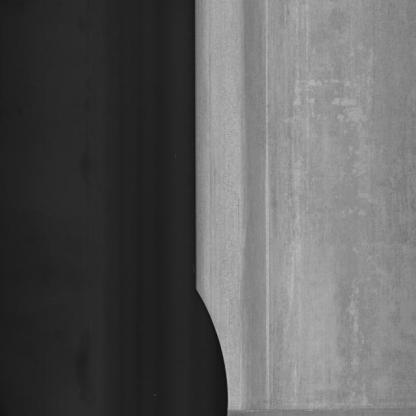crescent_gap: (179, 278, 235, 416)
welding_line: (210, 394, 413, 415)
